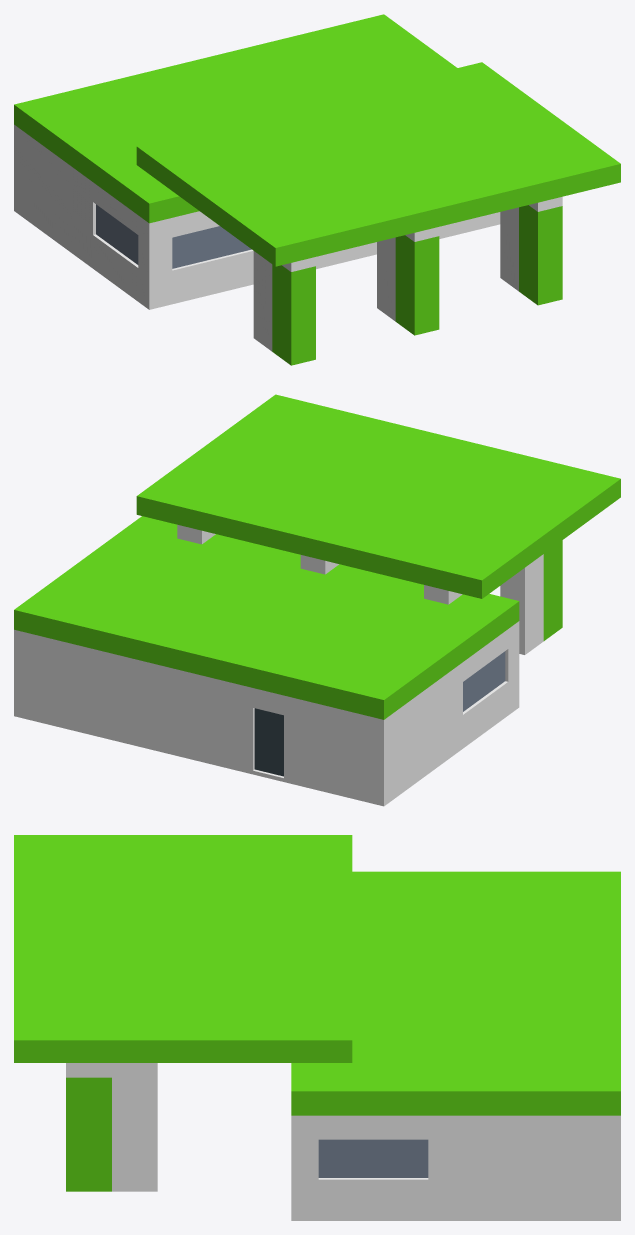
The model's file is GasStation_v1.fbx.
The picture shows the model from 3 angles, top to bottom: view 1: azimuth 30°, elevation 25°; view 2: azimuth 150°, elevation 25°; view 3: azimuth 270°, elevation 25°; orthographic projection. The views are drawn at different scales.
Visible parts, largest first — view 1: GasStation; view 2: GasStation; view 3: GasStation.
Boxes of the visible parts, x1,y1,x2,y2 form: GasStation: [14, 14, 620, 365]; GasStation: [14, 394, 620, 806]; GasStation: [14, 835, 620, 1220].
Size of the model in its own units: 1258 by 462 by 1468.
